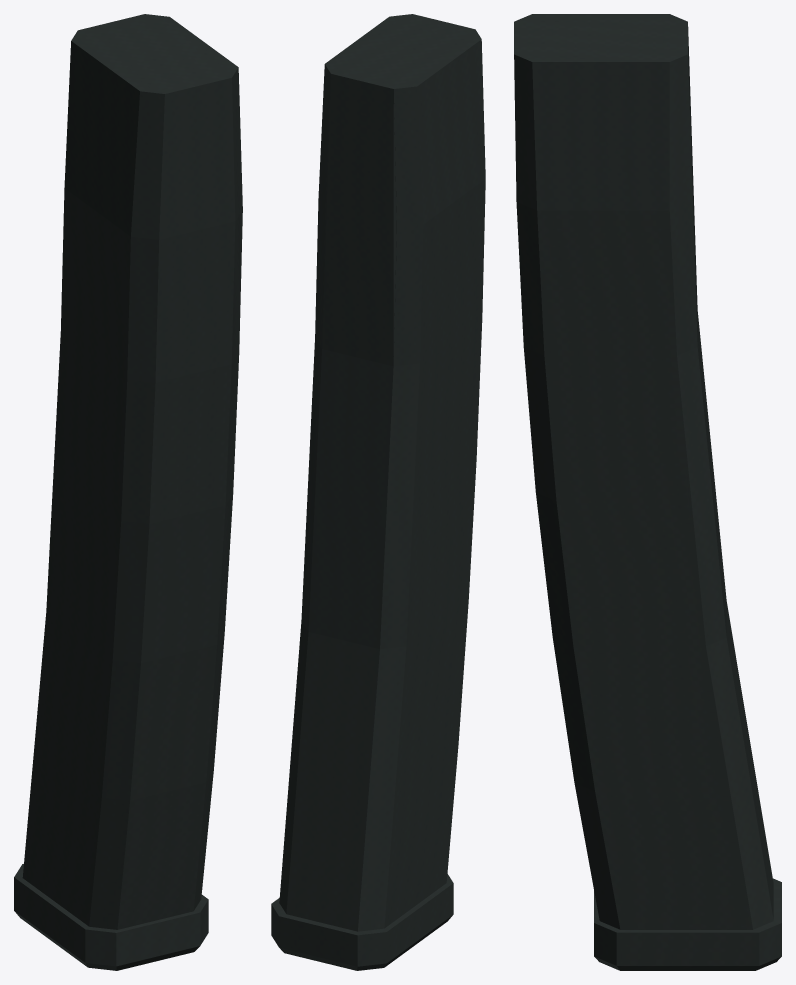
Rendered from vityaz_30.glb.
3 renders of one model, left to right at view 1: azimuth 30°, elevation 25°; view 2: azimuth 150°, elevation 25°; view 3: azimuth 270°, elevation 25°, orthographic. The views are drawn at different scales.
Parts seen in each view (by area): view 1: vityaz_30_individual_shell, vityaz_30_individual_shell.001; view 2: vityaz_30_individual_shell.001, vityaz_30_individual_shell; view 3: vityaz_30_individual_shell, vityaz_30_individual_shell.001.
Boxes of the visible parts, x1,y1,x2,y2 form: vityaz_30_individual_shell: [14, 14, 242, 970]; vityaz_30_individual_shell.001: [22, 334, 127, 925]; vityaz_30_individual_shell.001: [279, 74, 481, 931]; vityaz_30_individual_shell: [271, 14, 485, 970]; vityaz_30_individual_shell: [514, 14, 781, 970]; vityaz_30_individual_shell.001: [544, 27, 773, 929].
Bounding box in the file's own units: 0.0539 × 0.379 × 0.1016.
1 material, 1 textured.
